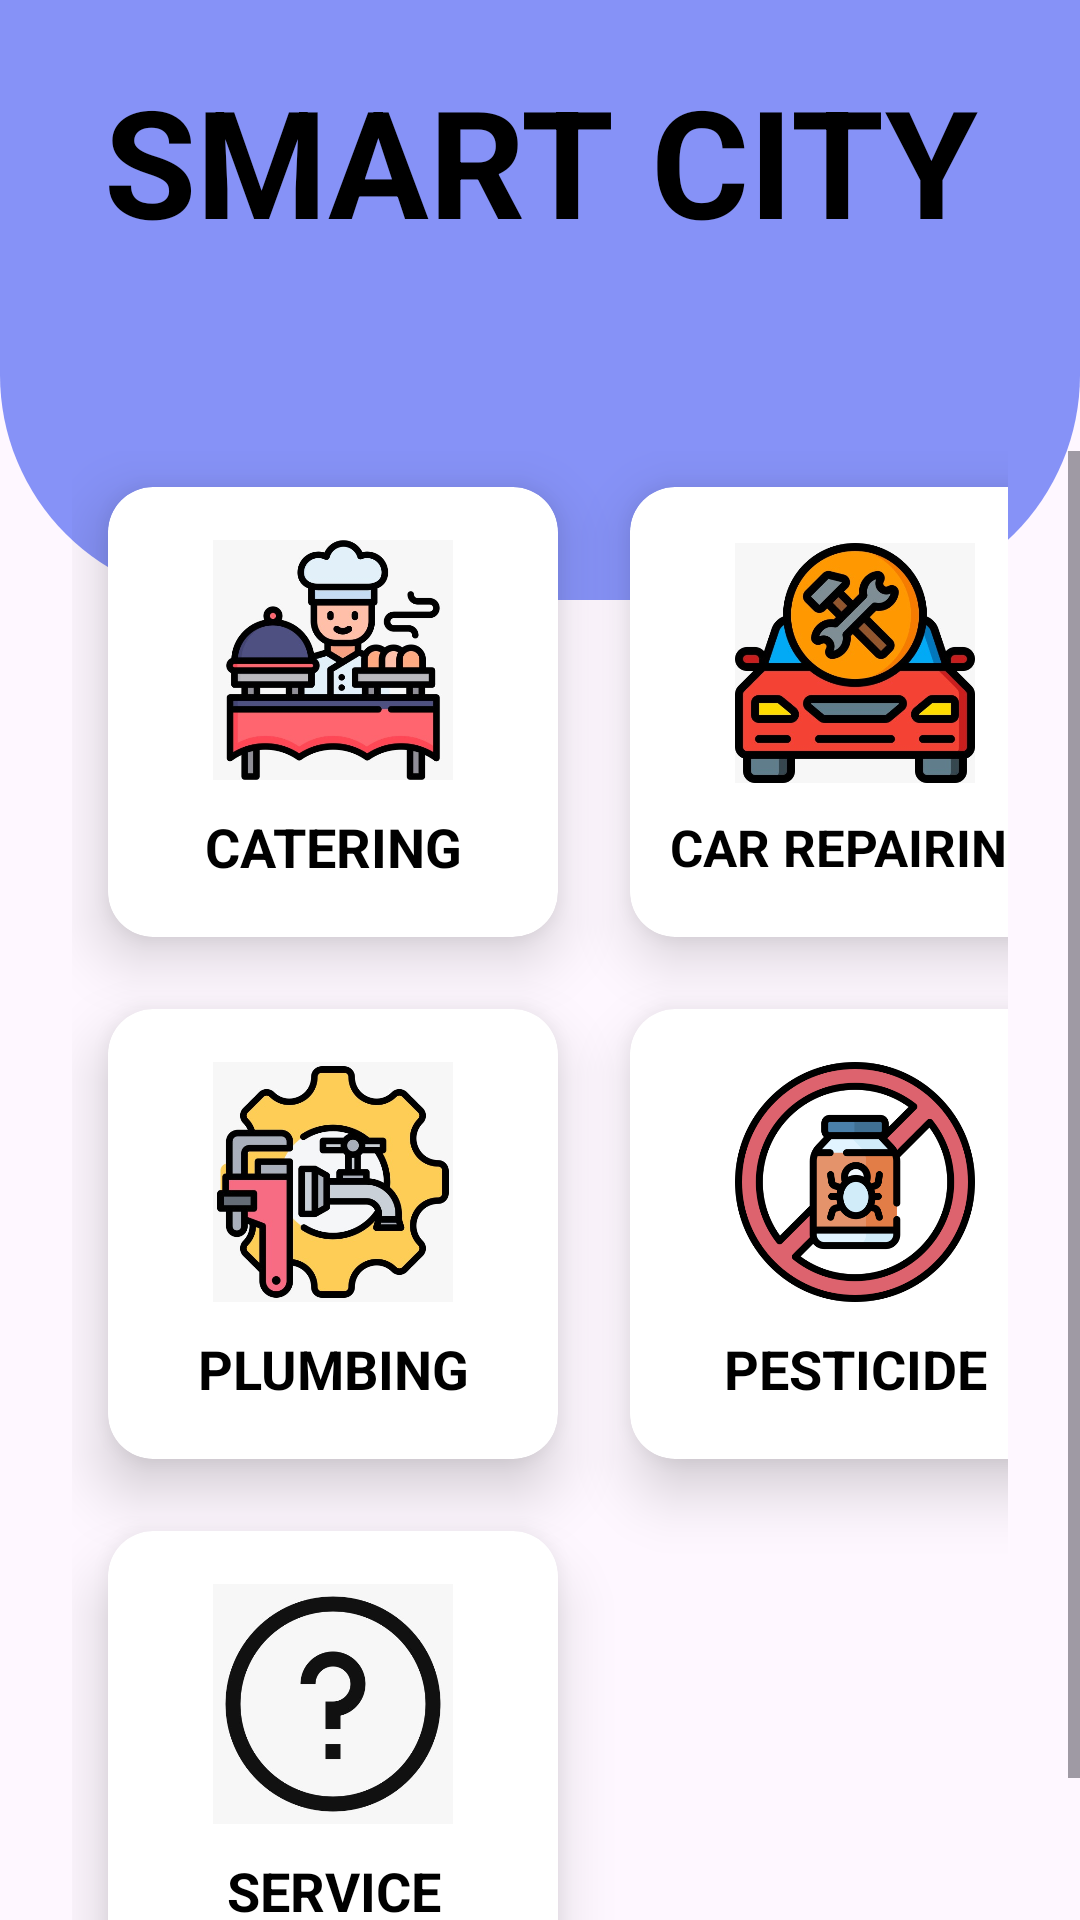

Locate icon controls on the screen. Image size 1080w x 1920h, boxes as {"left": x1, "top": y1, "right": x2, "bottom": y2}.
question: {"left": 225, "top": 1596, "right": 441, "bottom": 1812}
